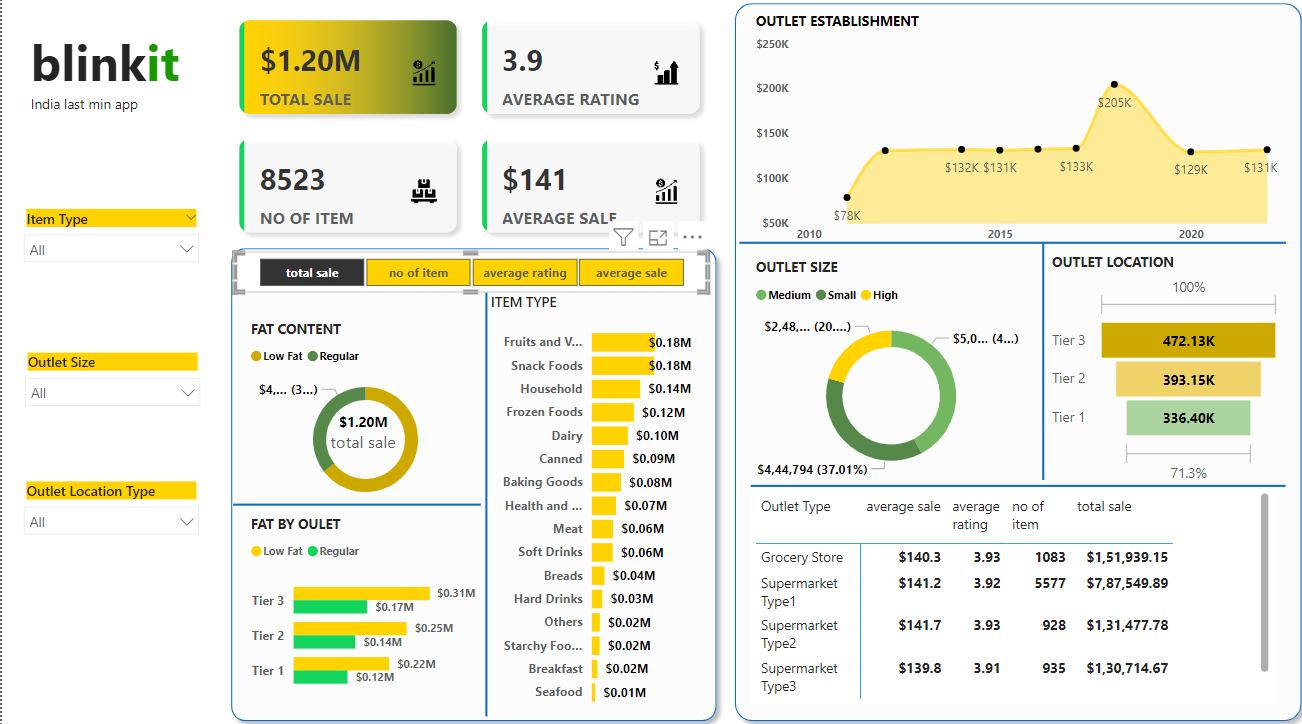

The page's visual inventory and layout, read from the dashboard file:
{"tool":"powerbi","page":{"name":"Page 1","canvas":[1280,720],"ordinal":0},"visuals":[{"type":"textbox","box":[23.2,28.1,165.1,90.5],"z":0},{"type":"textbox","box":[23.2,92.9,192,73.4],"z":1000},{"type":"cardVisual","fields":{"Data":["BlinkIT Grocery Data.total sale","BlinkIT Grocery Data.average rating","BlinkIT Grocery Data.no of item","BlinkIT Grocery Data.average sale"]},"box":[215.2,8.6,485.5,243.3],"z":2000},{"type":"shape","box":[215.2,239.7,492.8,480.6],"z":3000},{"type":"donutChart","title":"FAT CONTENT ","fields":{"Y":["BlinkIT Grocery Data.total sale"],"Category":["BlinkIT Grocery Data.Item Fat Content"]},"box":[238.5,317.9,234.8,190.8],"z":4000},{"type":"slicer","fields":{"Values":["matxir.matxir"]},"box":[226.2,251.9,464.7,40.4],"z":5000},{"type":"cardVisual","fields":{"Data":["BlinkIT Grocery Data.total sale"]},"box":[289.8,392.5,127.2,68.5],"z":6000},{"type":"clusteredBarChart","title":"FAT BY OULET","fields":{"Y":["BlinkIT Grocery Data.total sale"],"Category":["BlinkIT Grocery Data.Outlet Location Type"],"Series":["BlinkIT Grocery Data.Item Fat Content"]},"box":[238.5,508.7,229.9,185.9],"z":7000},{"type":"barChart","title":"ITEM TYPE","fields":{"Y":["BlinkIT Grocery Data.total sale"],"Category":["BlinkIT Grocery Data.Item Type"]},"box":[473.2,292.3,206.7,414.5],"z":8000},{"type":"shape","box":[708,0,572.3,720.2],"z":9000},{"type":"lineChart","title":"OUTLET ESTABLISHMENT ","fields":{"Y":["BlinkIT Grocery Data.total sale"],"Category":["BlinkIT Grocery Data.Outlet Establishment Year"]},"box":[732.5,17.1,523.4,234.8],"z":10000},{"type":"donutChart","title":"OUTLET SIZE","fields":{"Y":["BlinkIT Grocery Data.total sale"],"Category":["BlinkIT Grocery Data.Outlet Size"]},"box":[732.5,258,275.1,225],"z":11000},{"type":"funnel","title":"OUTLET LOCATION","fields":{"Category":["BlinkIT Grocery Data.Outlet Location Type"],"Y":["Sum(BlinkIT Grocery Data.Sales)"]},"box":[1022.3,253.1,233.6,229.9],"z":12000},{"type":"pivotTable","fields":{"Rows":["BlinkIT Grocery Data.Outlet Type"],"Values":["BlinkIT Grocery Data.average sale","BlinkIT Grocery Data.average rating","BlinkIT Grocery Data.no of item","BlinkIT Grocery Data.total sale"]},"box":[732.5,483,512.4,211.6],"z":13000},{"type":"shape","box":[226.2,456.1,242.1,86.8],"z":14000},{"type":"shape","box":[897.6,243.3,242.1,232.3],"z":15000},{"type":"shape","box":[732.5,437.8,523.4,86.8],"z":16000},{"type":"shape","box":[446.3,292.3,55,414.5],"z":17000},{"type":"slicer","fields":{"Values":["BlinkIT Grocery Data.Item Type"]},"box":[11,205.4,192,91.7],"z":18000},{"type":"slicer","fields":{"Values":["BlinkIT Grocery Data.Outlet Location Type"]},"box":[11,472,192,91.7],"z":19000},{"type":"slicer","fields":{"Values":["BlinkIT Grocery Data.Outlet Size"]},"box":[12.2,346.1,192,91.7],"z":20000},{"type":"shape","box":[721.5,209.1,534.4,68.5],"z":21000}]}

Visuals, with their boxes in screenshot pixels (x1, y1, x2, y2), scaled from the page's 1280x720 canvas onto the 1302x724 screenshot:
textbox: x1=24 y1=28 x2=192 y2=119
textbox: x1=24 y1=93 x2=219 y2=167
cardVisual - BlinkIT Grocery Data.total sale x BlinkIT Grocery Data.average rating: x1=219 y1=9 x2=713 y2=253
shape: x1=219 y1=241 x2=720 y2=723
"FAT CONTENT " donutChart: x1=243 y1=320 x2=481 y2=512
slicer - matxir.matxir: x1=230 y1=253 x2=703 y2=294
cardVisual - BlinkIT Grocery Data.total sale: x1=295 y1=395 x2=424 y2=464
"FAT BY OULET" clusteredBarChart: x1=243 y1=512 x2=476 y2=698
"ITEM TYPE" barChart: x1=481 y1=294 x2=692 y2=711
shape: x1=720 y1=0 x2=1301 y2=723
"OUTLET ESTABLISHMENT " lineChart: x1=745 y1=17 x2=1277 y2=253
"OUTLET SIZE" donutChart: x1=745 y1=259 x2=1025 y2=486
"OUTLET LOCATION" funnel: x1=1040 y1=255 x2=1277 y2=486
pivotTable - BlinkIT Grocery Data.Outlet Type x BlinkIT Grocery Data.average sale: x1=745 y1=486 x2=1266 y2=698
shape: x1=230 y1=459 x2=476 y2=546
shape: x1=913 y1=245 x2=1159 y2=478
shape: x1=745 y1=440 x2=1277 y2=528
shape: x1=454 y1=294 x2=510 y2=711
slicer - BlinkIT Grocery Data.Item Type: x1=11 y1=207 x2=206 y2=299
slicer - BlinkIT Grocery Data.Outlet Location Type: x1=11 y1=475 x2=206 y2=567
slicer - BlinkIT Grocery Data.Outlet Size: x1=12 y1=348 x2=208 y2=440
shape: x1=734 y1=210 x2=1277 y2=279
